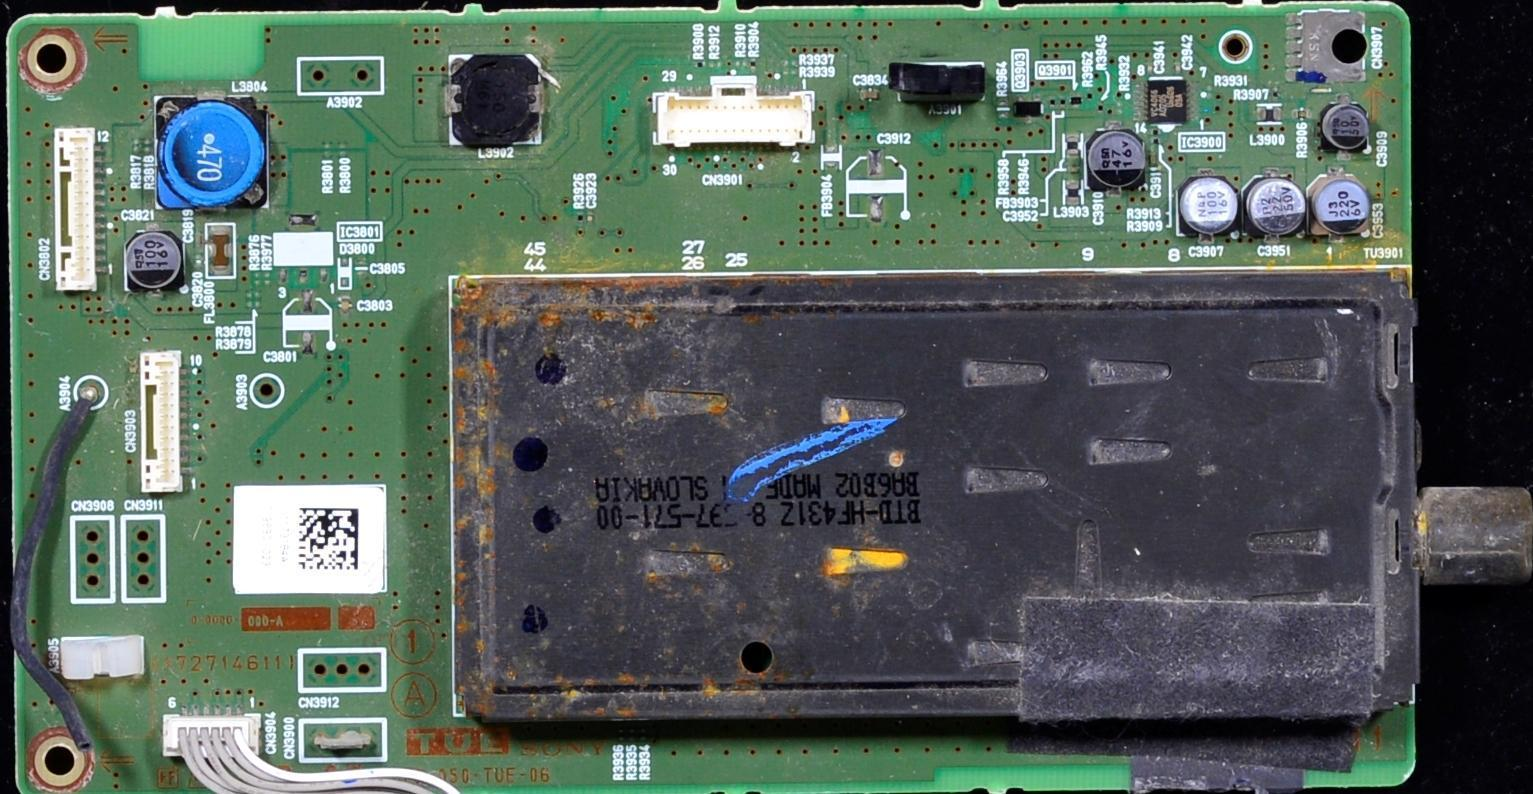Capacitor: (1083, 127, 1153, 189), (1243, 177, 1309, 240), (1178, 177, 1244, 239), (123, 230, 184, 288), (1320, 103, 1380, 155), (1318, 174, 1372, 230), (864, 146, 888, 175), (856, 85, 886, 106), (1064, 162, 1086, 177), (587, 208, 601, 226), (143, 218, 161, 232), (191, 254, 204, 272)
Connector: (139, 351, 198, 495), (52, 126, 98, 293)
IC: (1137, 68, 1193, 130)
Resistor: (1201, 80, 1216, 107), (319, 138, 335, 160), (338, 291, 353, 314), (994, 99, 1012, 119), (571, 206, 588, 225), (1268, 82, 1282, 104), (241, 288, 265, 299), (133, 135, 146, 155), (338, 141, 351, 161), (693, 54, 708, 71), (1112, 100, 1125, 118), (1294, 105, 1308, 122), (783, 68, 803, 79), (612, 726, 624, 744), (781, 58, 800, 69), (708, 57, 725, 69), (623, 729, 636, 744), (1094, 98, 1106, 114), (746, 57, 760, 70), (1048, 91, 1058, 109), (243, 300, 263, 309), (638, 733, 653, 745), (1153, 136, 1169, 147), (253, 270, 264, 287), (144, 136, 154, 153), (263, 270, 272, 288), (1059, 95, 1068, 109), (734, 61, 749, 69), (1147, 127, 1161, 135)
Transistor: (1067, 95, 1084, 105)
